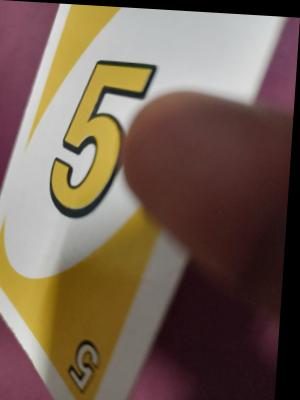num_5: (38, 37, 155, 252), (54, 284, 119, 393)
